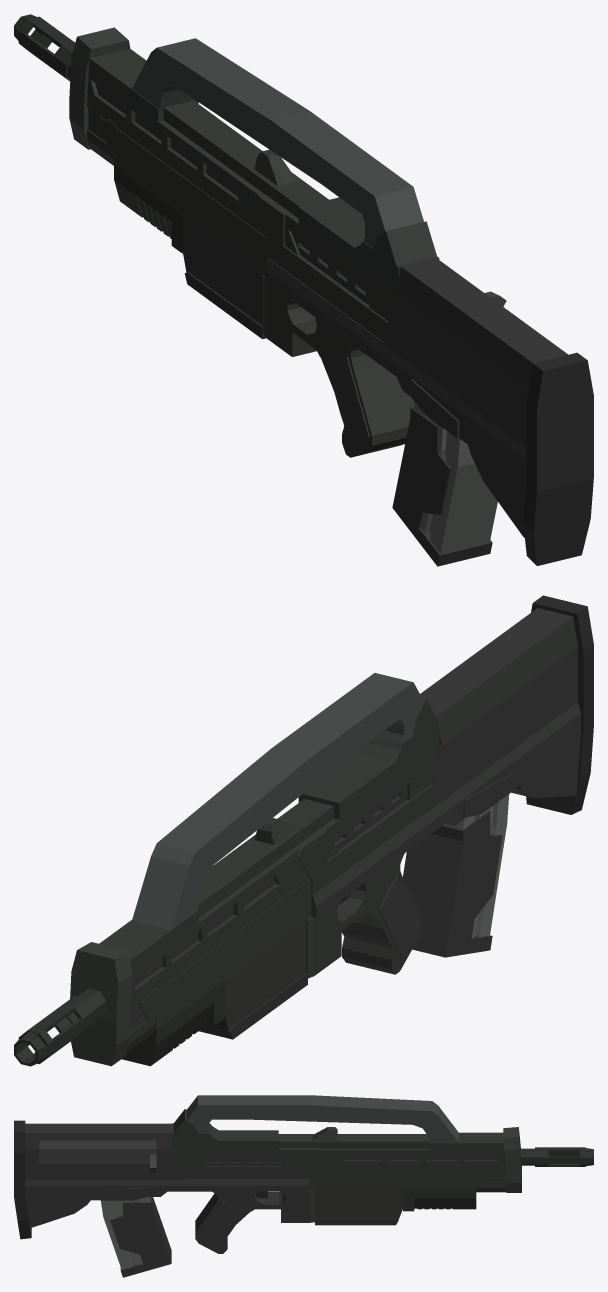
Rendered from moritacarbine.obj.
3 renders of one model, top to bottom at view 1: azimuth 30°, elevation 25°; view 2: azimuth 150°, elevation 25°; view 3: azimuth 270°, elevation 25°, orthographic. The views are drawn at different scales.
Visible parts, largest first — view 1: moritacarbine_carbine, mag; view 2: moritacarbine_carbine, mag; view 3: moritacarbine_carbine, mag, port.
Part boxes in pixels (box(x1,y1,x2,y2)): moritacarbine_carbine: box(14, 14, 593, 565); mag: box(392, 402, 497, 566); moritacarbine_carbine: box(14, 595, 593, 1066); mag: box(402, 794, 509, 957); moritacarbine_carbine: box(14, 1095, 593, 1253); mag: box(101, 1197, 171, 1277); port: box(39, 1140, 156, 1172).
Size of the model in its own units: 0.2822 by 0.8893 by 2.74.
